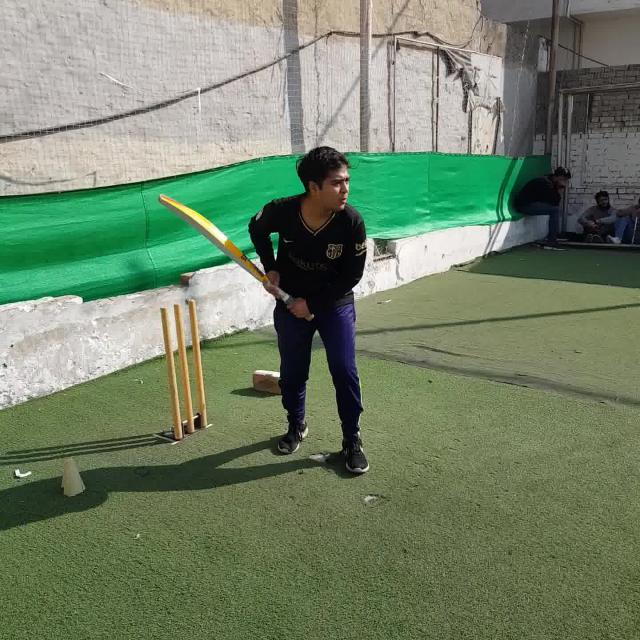bat: (160, 192, 314, 320)
